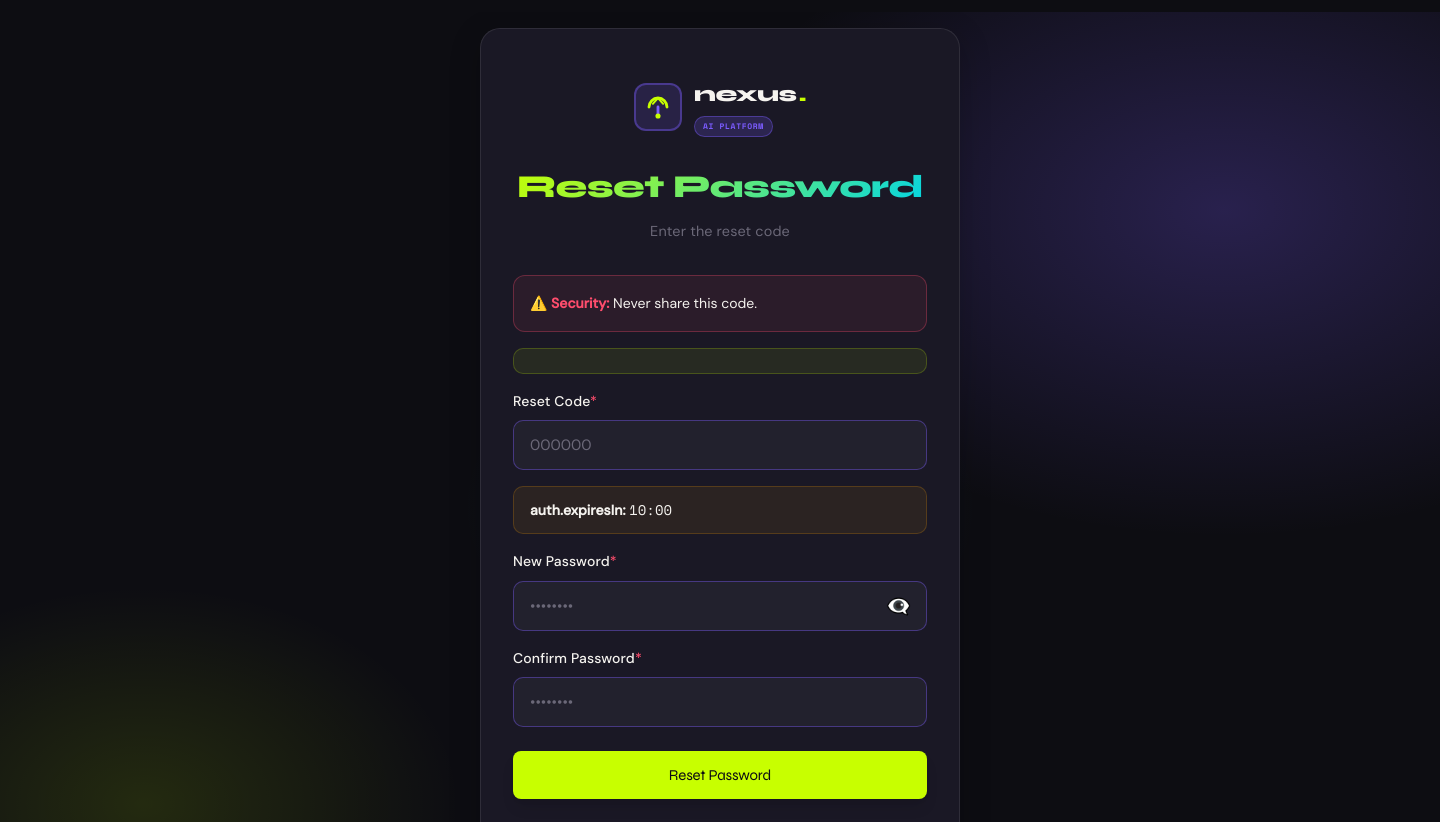
it: ResetPasswordPage › displays error for mismatched passwords
Type "123456" into the field labelled "Reset Code*". click: (720, 445)
box: [513,420,927,470]
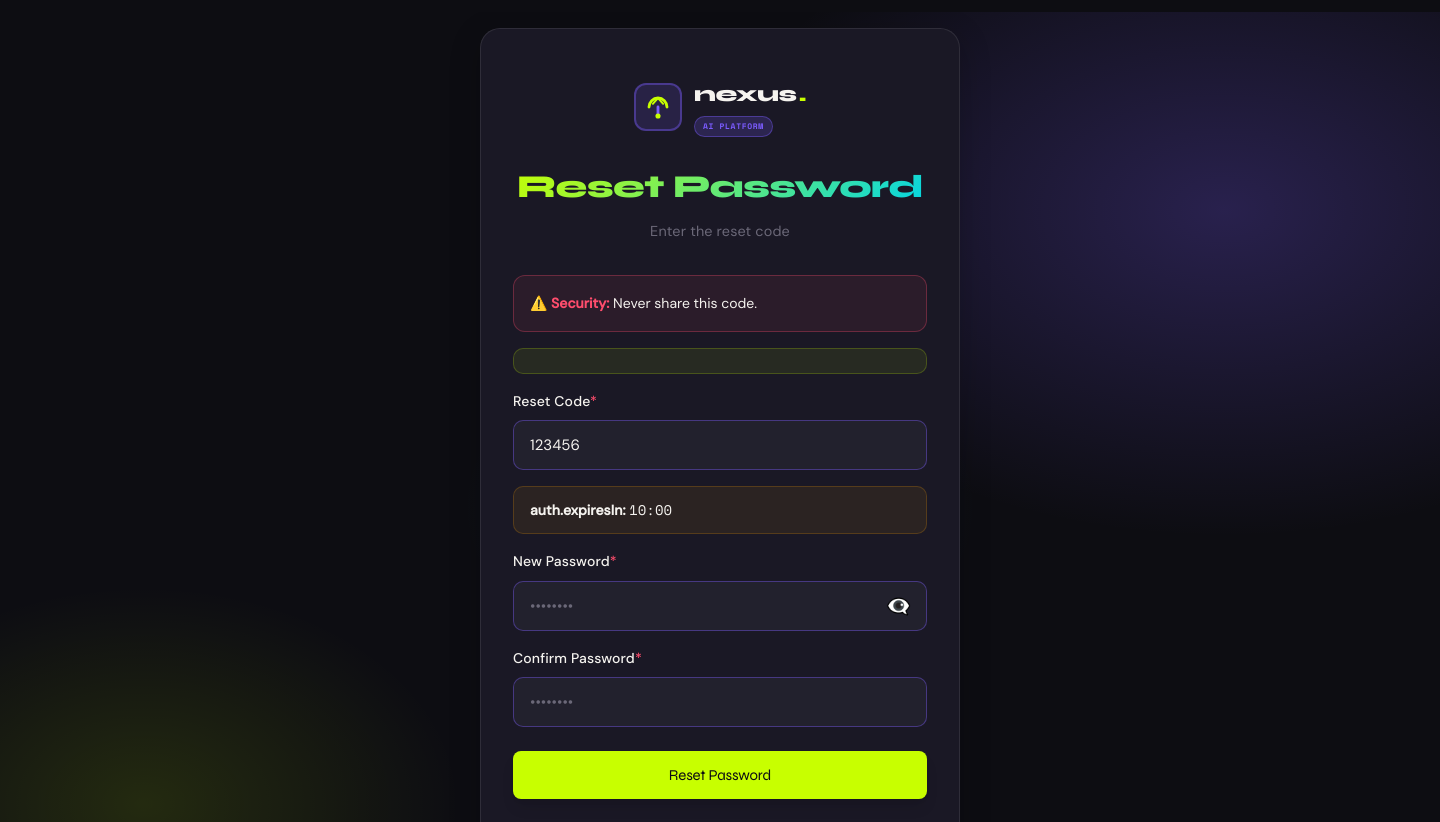
Type "NewPass123!" into the password field labelled "New Password*". click: (720, 606)
box: [513,581,927,631]
(page scrolled)
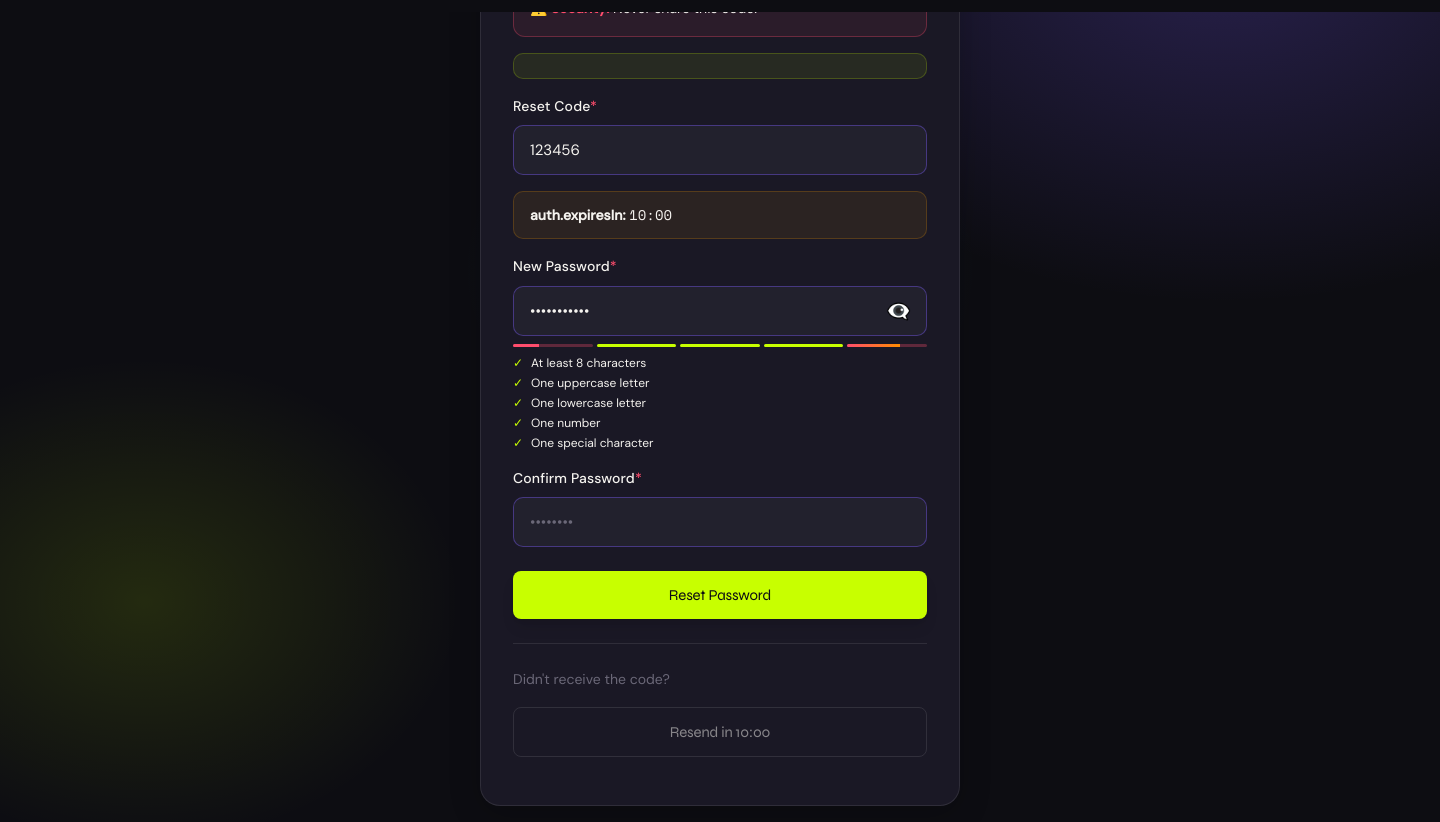
Type "DifferentPass456!" into the password field labelled "Confirm Password*". click: (720, 522)
box: [513,497,927,547]
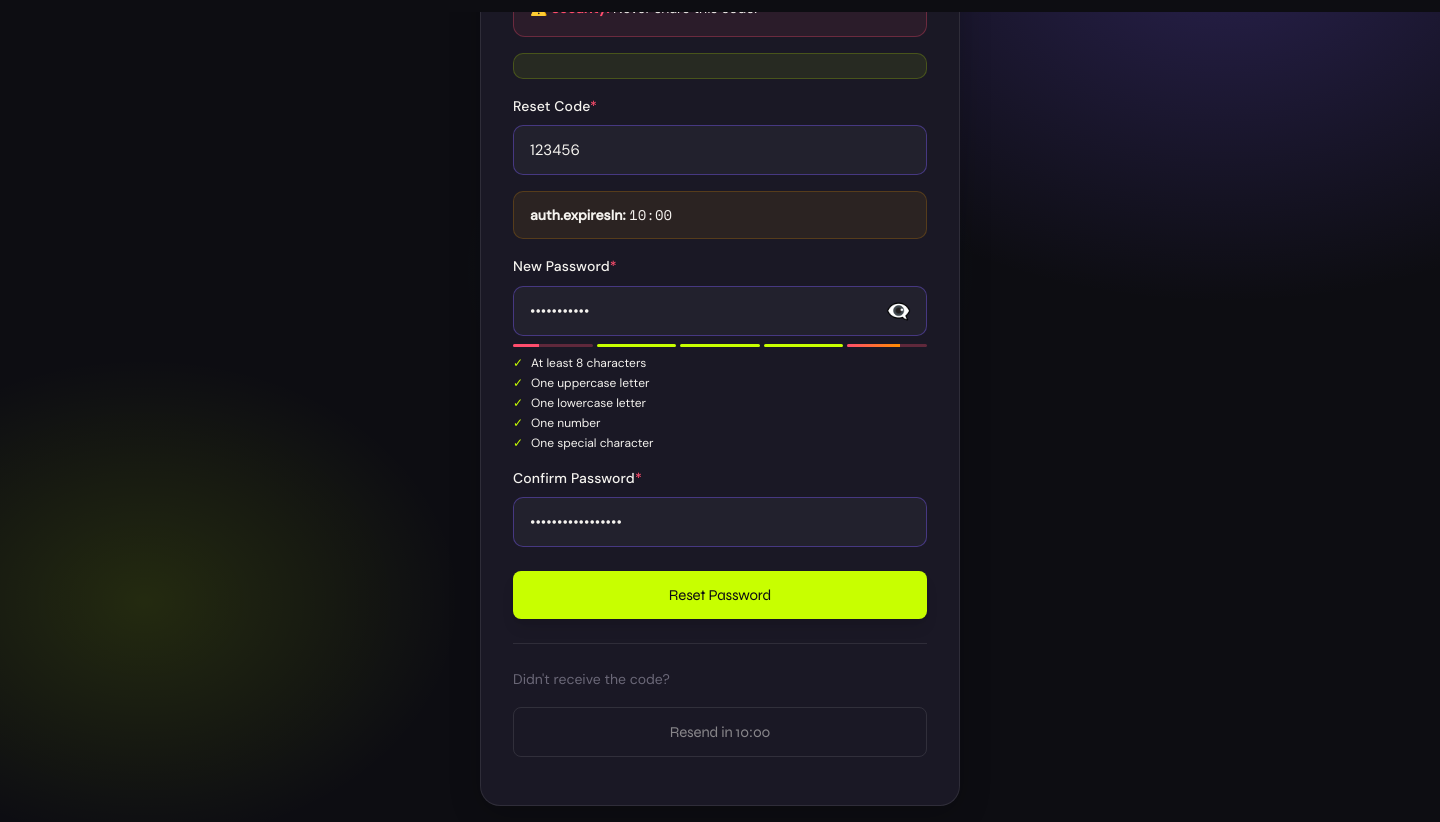
Click the button "Reset Password". click: click(720, 595)
box: [513,571,927,619]
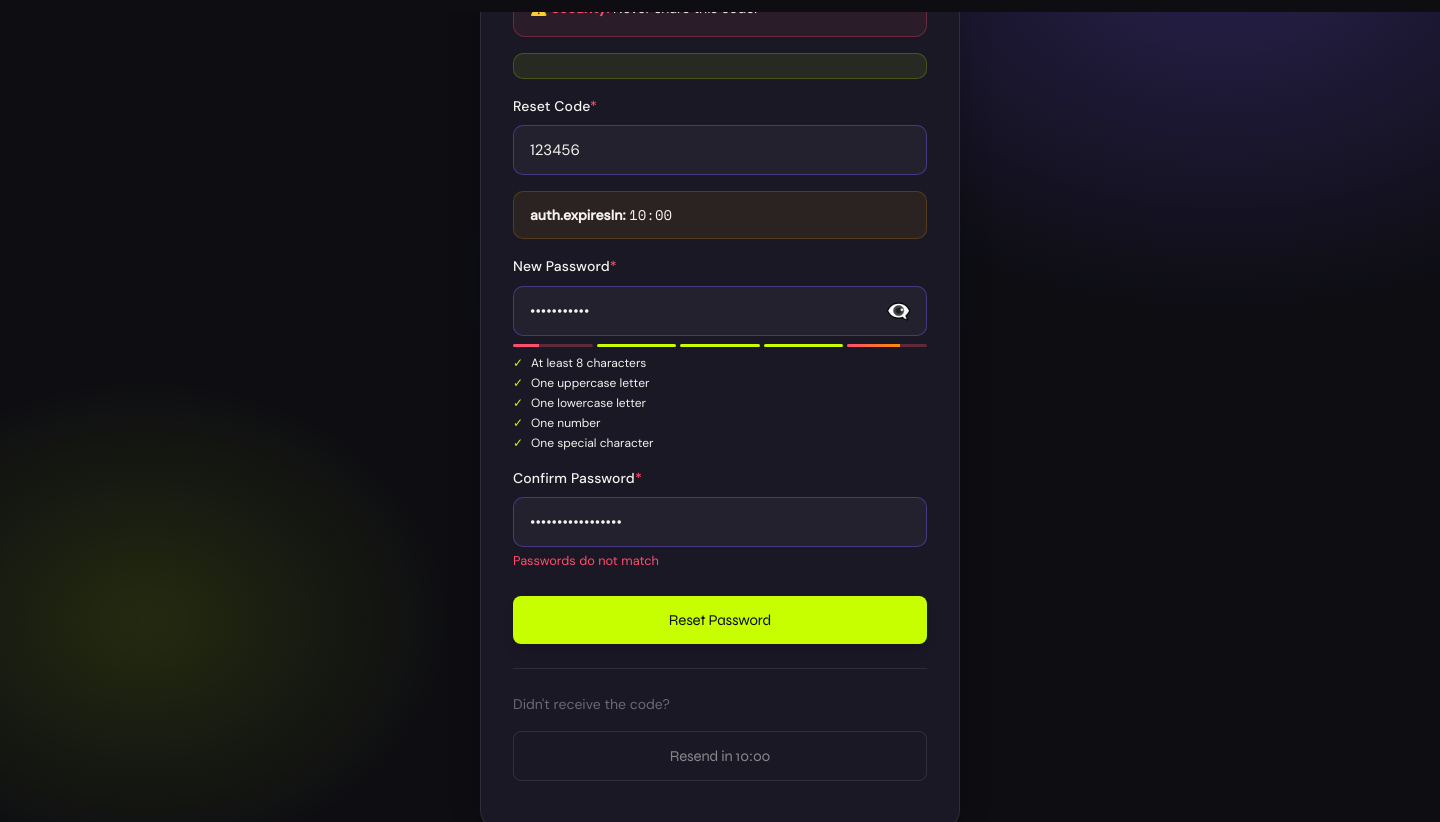
Result: the text "Passwords do not match" is shown at [513,552,659,569]
